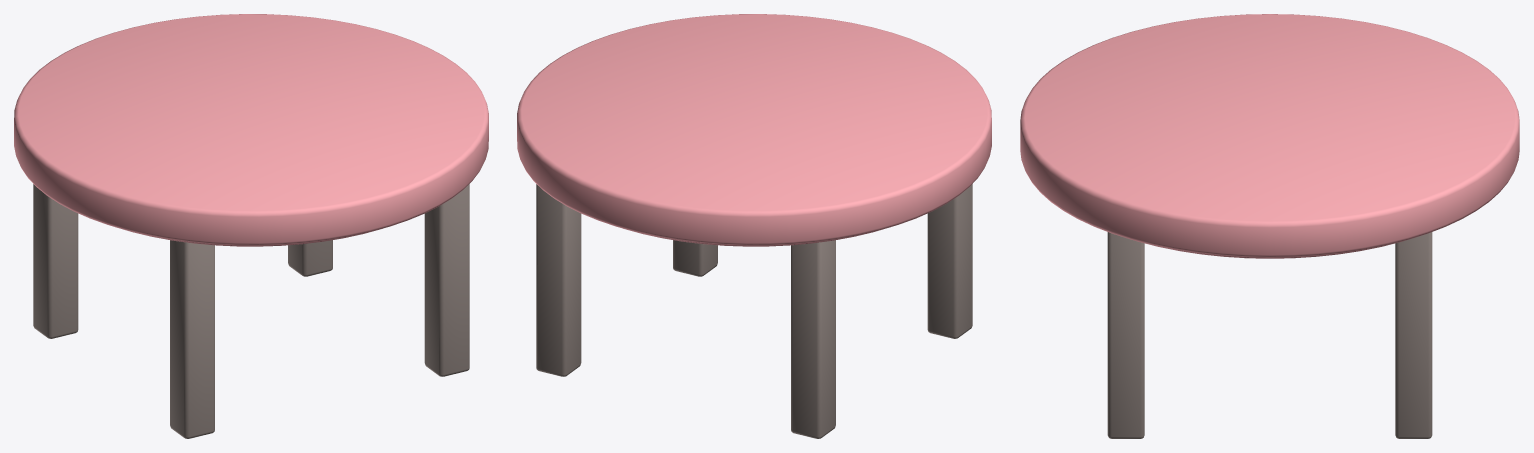
The model's file is tablesmooth.fbx.
3 views of the same model, side by side, from view 1: azimuth 30°, elevation 25°; view 2: azimuth 150°, elevation 25°; view 3: azimuth 270°, elevation 25° (orthographic). The views are drawn at different scales.
Visible parts, largest first — view 1: TableExport; view 2: TableExport; view 3: TableExport.
Boxes of the visible parts, bbox=[...] form: TableExport: bbox=[14, 14, 488, 438]; TableExport: bbox=[517, 14, 991, 438]; TableExport: bbox=[1020, 14, 1519, 438].
Bounding box in the file's own units: 2683 × 1480 × 2683.
